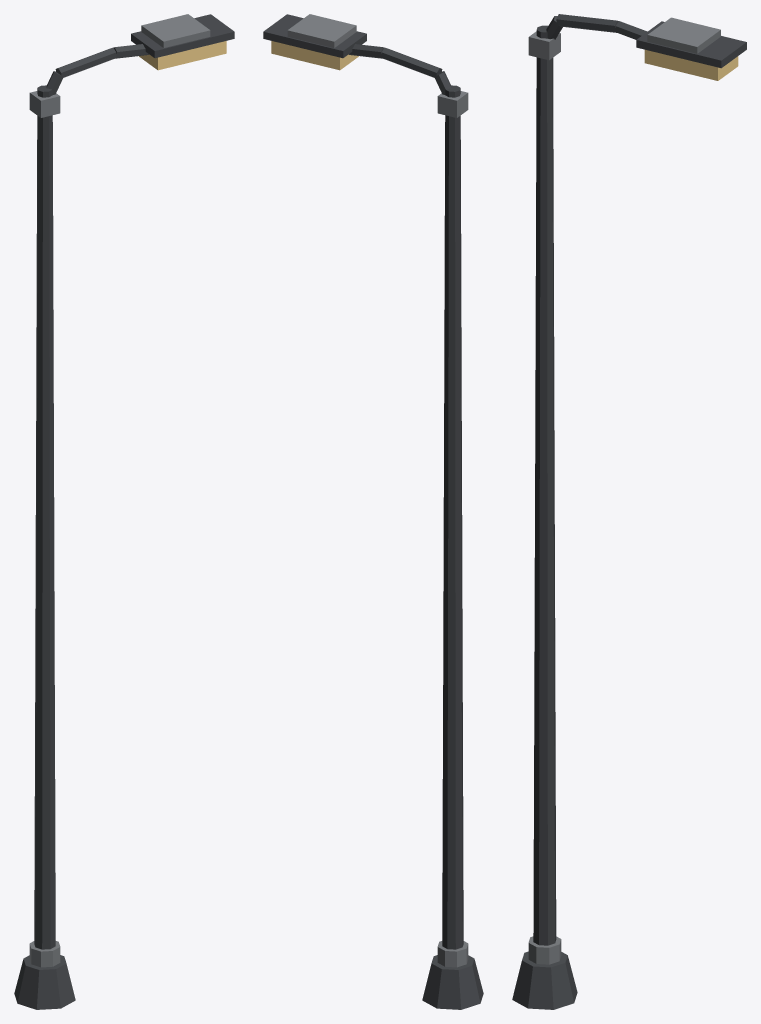
File: street_lamp.fbx
The picture shows the model from 3 angles, left to right: view 1: azimuth 30°, elevation 25°; view 2: azimuth 150°, elevation 25°; view 3: azimuth 330°, elevation 25°; orthographic projection. The views are drawn at different scales.
Parts seen in each view (by area): view 1: street_lamp; view 2: street_lamp; view 3: street_lamp.
Boxes of the visible parts, x1=… form: street_lamp: x1=14, y1=14, x2=234, y2=1009; street_lamp: x1=263, y1=14, x2=483, y2=1009; street_lamp: x1=512, y1=14, x2=746, y2=1009.
Bounding box in the file's own units: 1.49 × 6.5 × 0.4.
